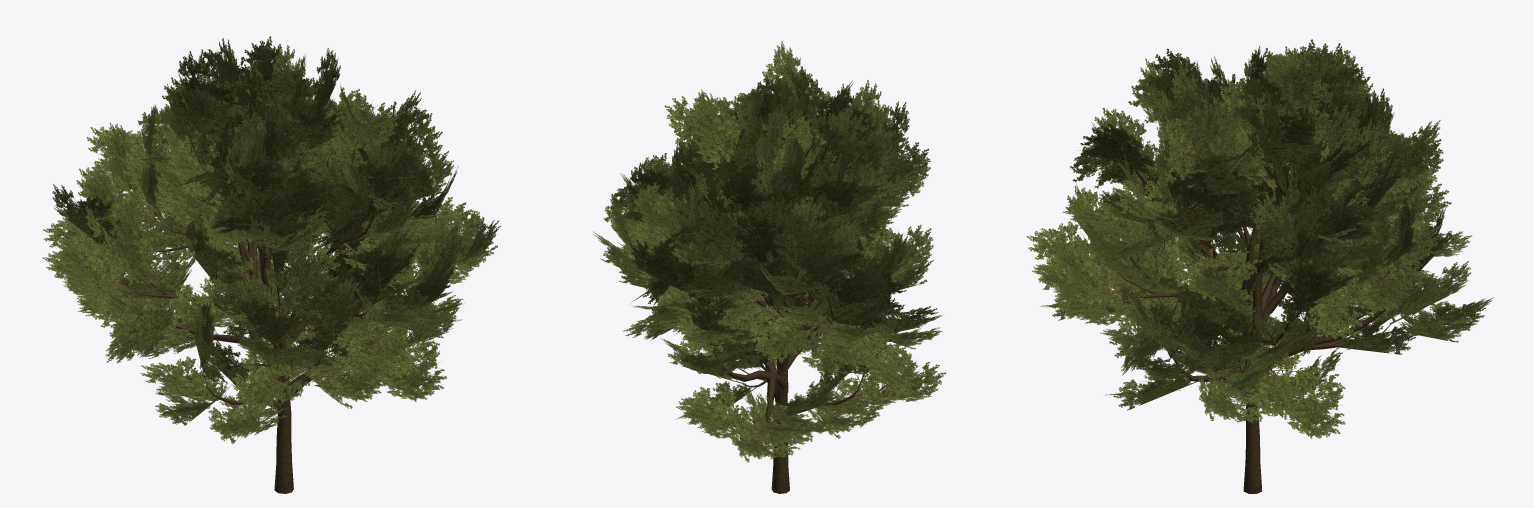
Rendered from forest-oak-tree-v1-optimized.glb.
3 views of the same model, side by side, from view 1: azimuth 30°, elevation 25°; view 2: azimuth 150°, elevation 25°; view 3: azimuth 270°, elevation 25° (orthographic). The views are drawn at different scales.
Visible parts, largest first — view 1: OakTree; view 2: OakTree; view 3: OakTree.
Boxes of the visible parts, x1=… form: OakTree: x1=42, y1=36, x2=501, y2=493; OakTree: x1=593, y1=41, x2=946, y2=493; OakTree: x1=1027, y1=39, x2=1493, y2=493.
Bounding box in the file's own units: 4.95 × 5 × 5.1.
2 materials, 2 textured.
